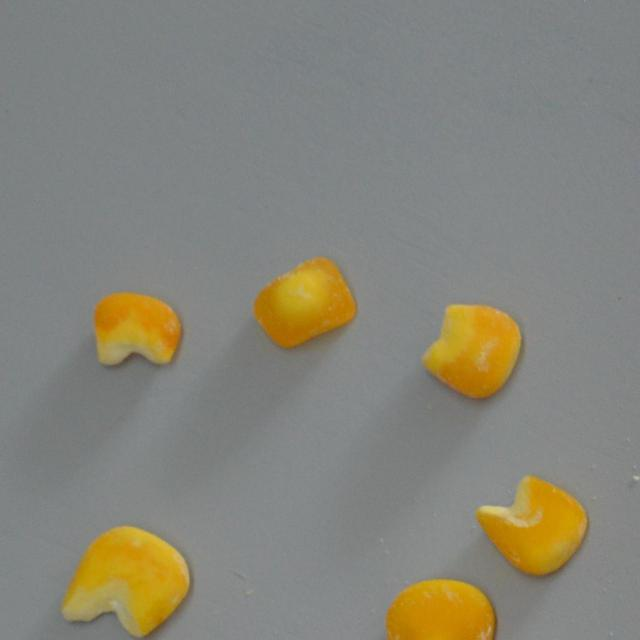no_canjicado: (60, 524, 192, 638)
pelicula: (474, 474, 588, 577), (252, 256, 356, 347), (422, 303, 519, 400), (384, 578, 497, 640), (92, 292, 179, 368)
